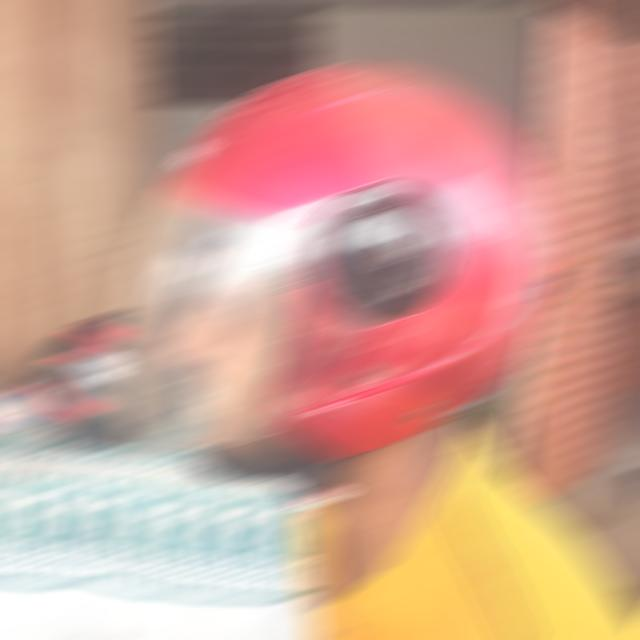With Helmet: (112, 64, 554, 451)
